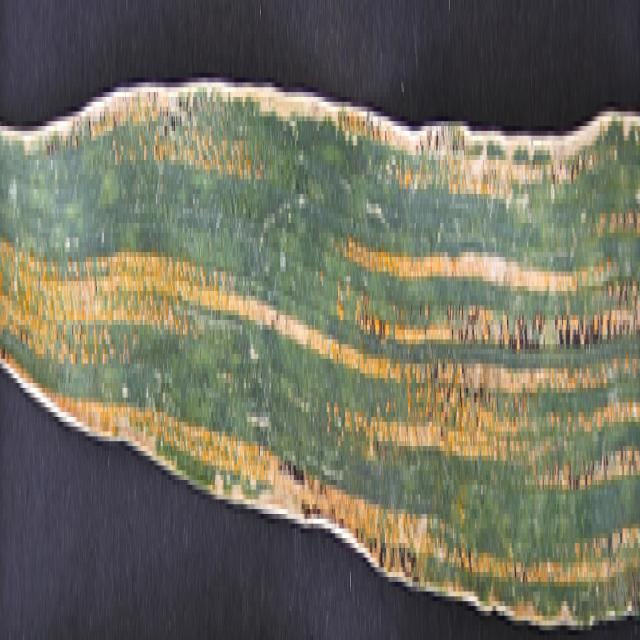leaf rust: (0, 106, 640, 625)
